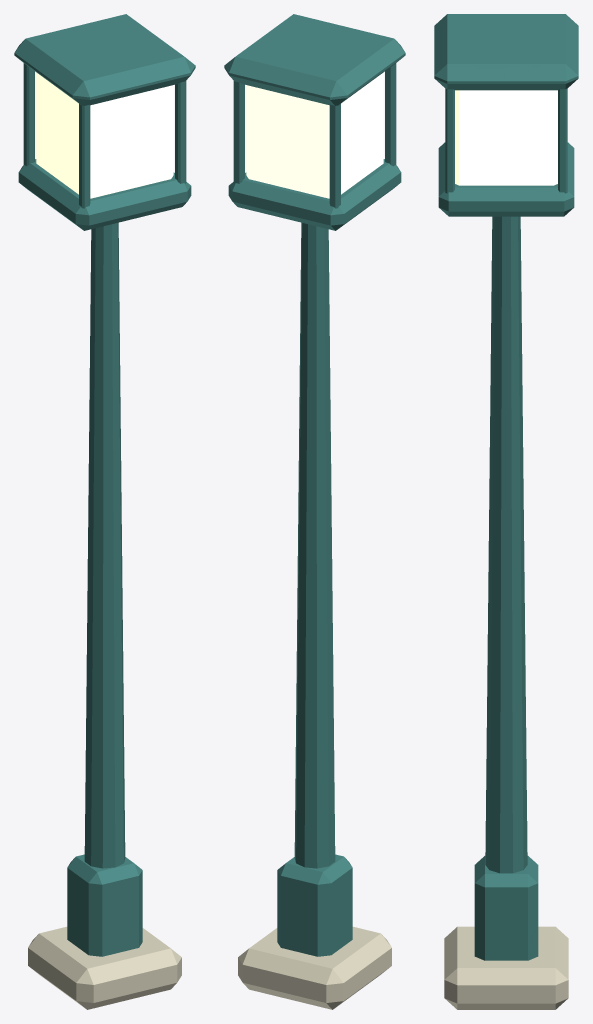
File: street_lamp.glb
3 views of the same model, side by side, from view 1: azimuth 30°, elevation 25°; view 2: azimuth 150°, elevation 25°; view 3: azimuth 270°, elevation 25° (orthographic).
Parts seen in each view (by area): view 1: street_lamp; view 2: street_lamp; view 3: street_lamp.
Boxes of the visible parts, <box> form: street_lamp: <box>14,14,195,1009</box>; street_lamp: <box>224,14,405,1009</box>; street_lamp: <box>434,14,578,1009</box>.
Size of the model in its own units: 0.5 by 3.63 by 0.5.
